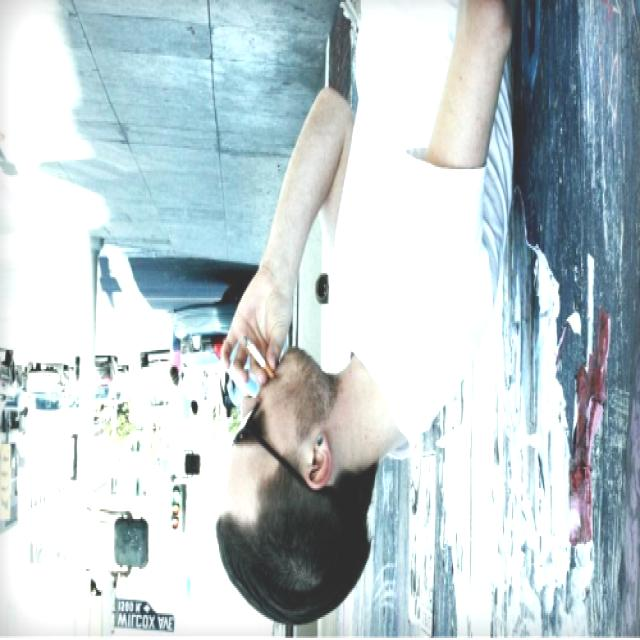smoke: (237, 337, 280, 378)
